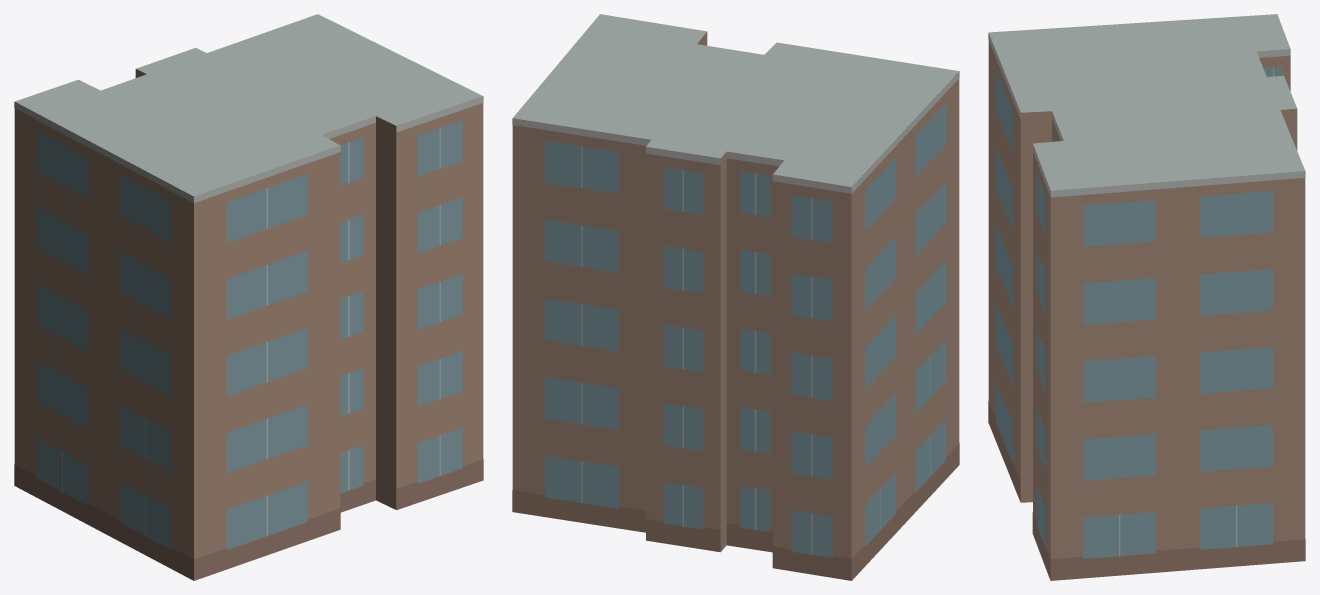
Rendered from survey-upis-32702621.glb.
The picture shows the model from 3 angles, left to right: view 1: azimuth 30°, elevation 25°; view 2: azimuth 150°, elevation 25°; view 3: azimuth 270°, elevation 25°; orthographic projection. The views are drawn at different scales.
Parts seen in each view (by area): view 1: survey-upis-32702621.tmp; view 2: survey-upis-32702621.tmp; view 3: survey-upis-32702621.tmp.
Boxes of the visible parts, x1,y1,x2,y2 form: survey-upis-32702621.tmp: [14, 14, 483, 580]; survey-upis-32702621.tmp: [512, 14, 959, 580]; survey-upis-32702621.tmp: [988, 14, 1305, 580].
Bounding box in the file's own units: 13.82 × 14.2 × 10.47.
